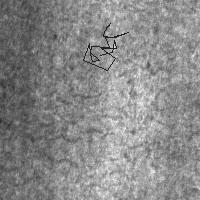crazing: (22, 116, 108, 170), (83, 23, 128, 70)
